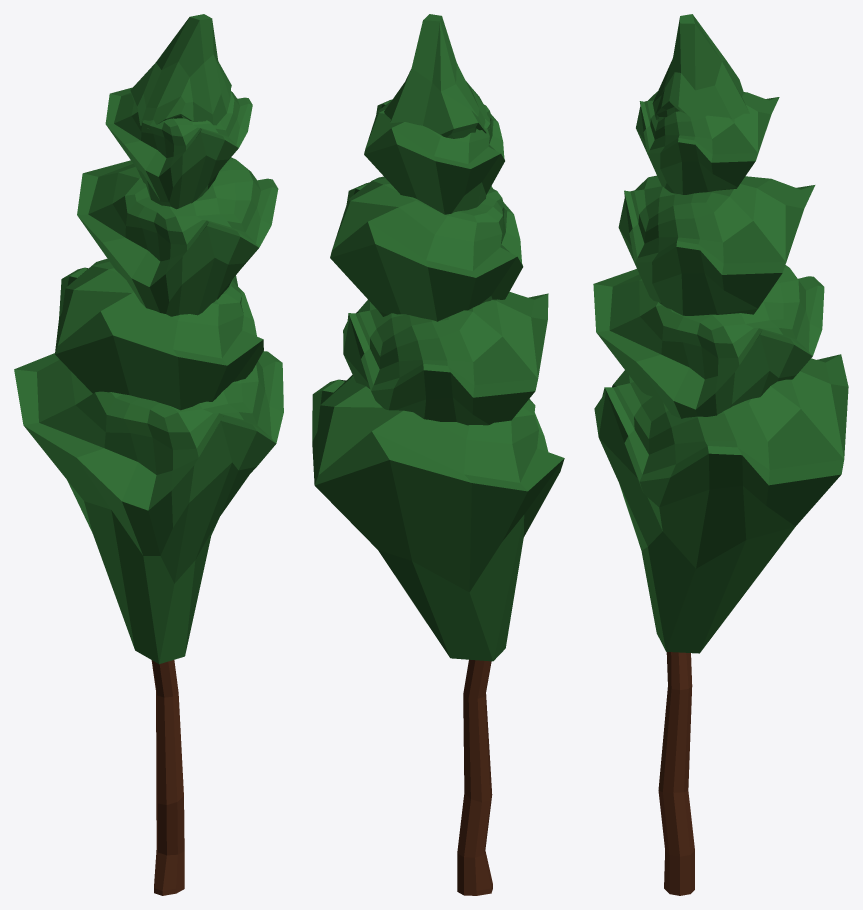
File: tree2-transformed.glb
3 renders of one model, left to right at view 1: azimuth 30°, elevation 25°; view 2: azimuth 150°, elevation 25°; view 3: azimuth 270°, elevation 25°, orthographic. The views are drawn at different scales.
Visible parts, largest first — view 1: Cube.266_leaves_0; view 2: Cube.266_leaves_0; view 3: Cube.266_leaves_0.
Part boxes in pixels (bbox=[...]): Cube.266_leaves_0: bbox=[14, 14, 283, 895]; Cube.266_leaves_0: bbox=[312, 14, 564, 895]; Cube.266_leaves_0: bbox=[593, 14, 848, 895].
Bounding box in the file's own units: 13.73 × 49.26 × 12.83.
